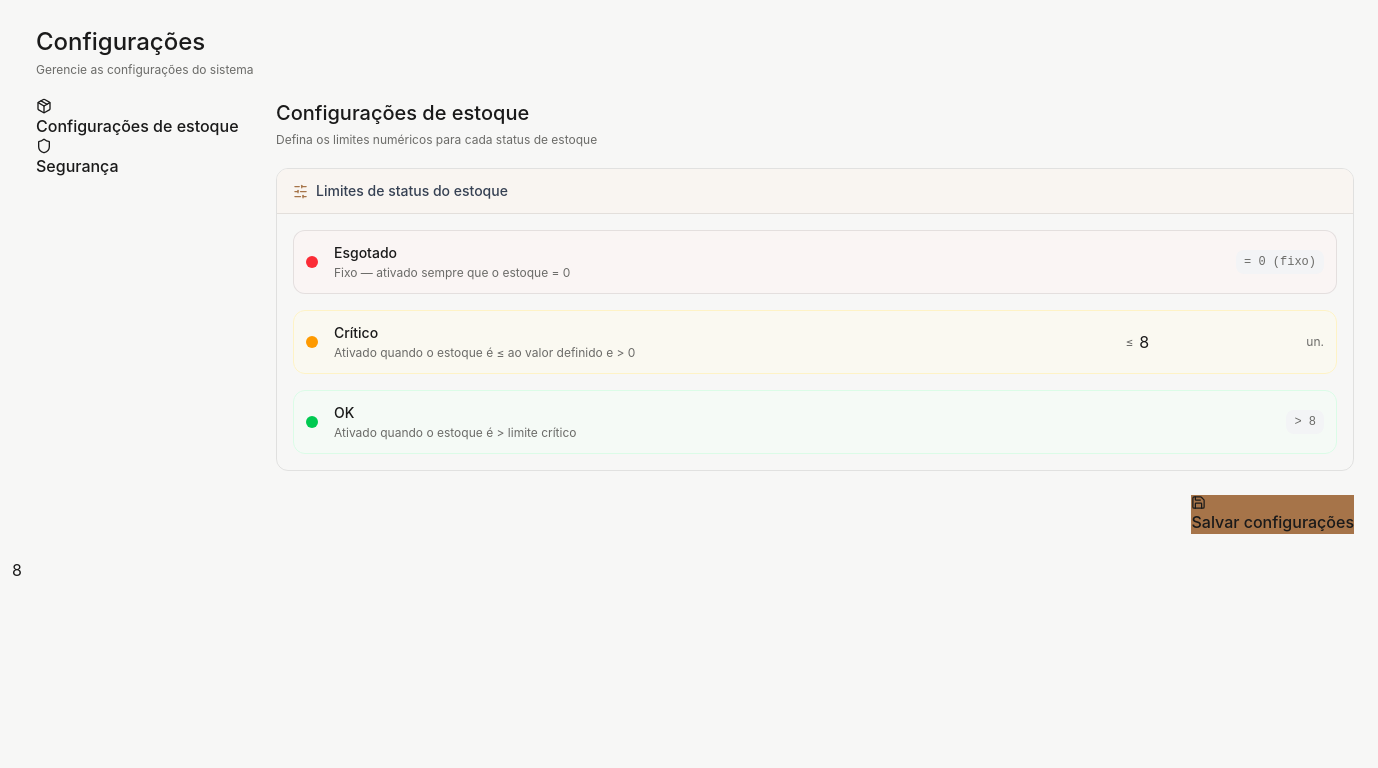
Scenario: Settings: caracterizacao das validacoes › limite invalido '0' nao envia requisicao nem mostra sucesso
Replace the text in the number field with "0" at (1220, 342), box [1139, 330, 1300, 354]
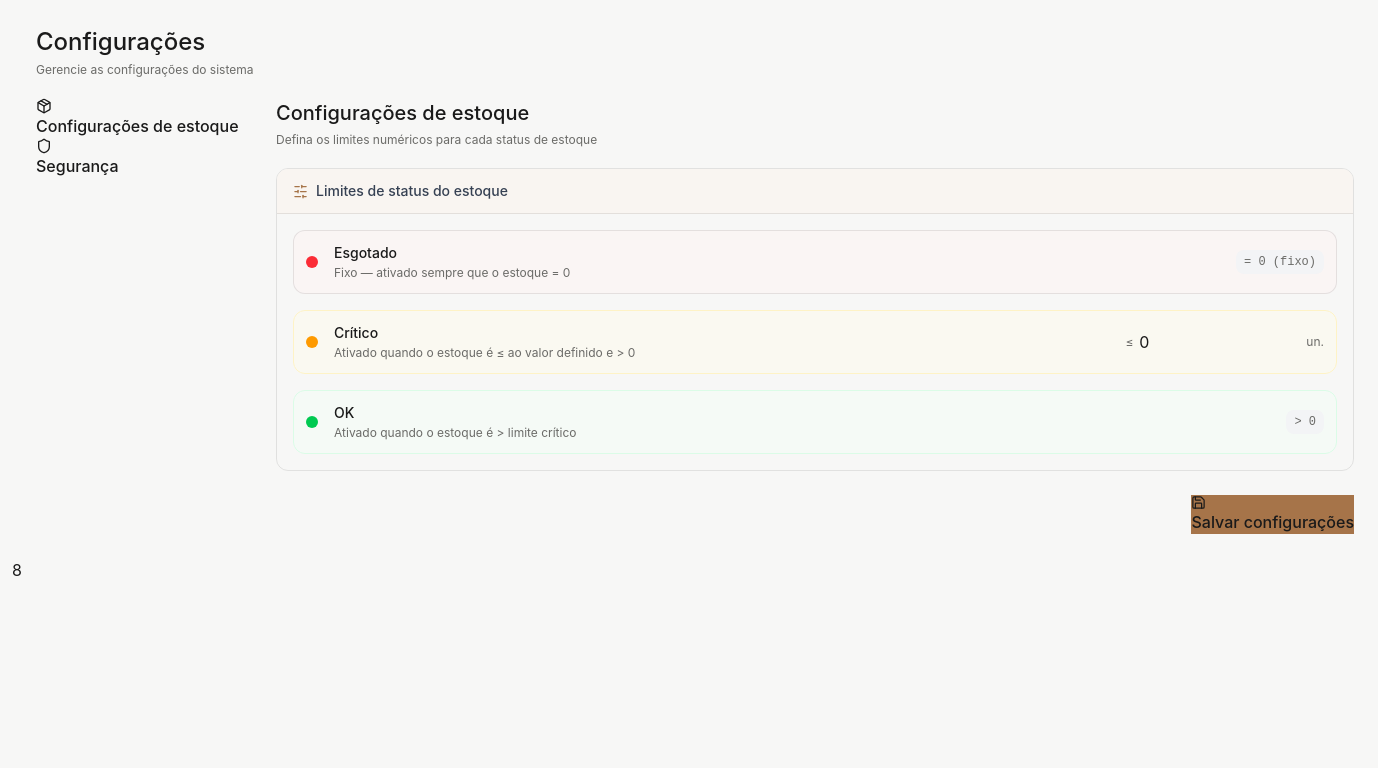
Click the button "Salvar configurações" at (1273, 514), box [1192, 495, 1354, 534]
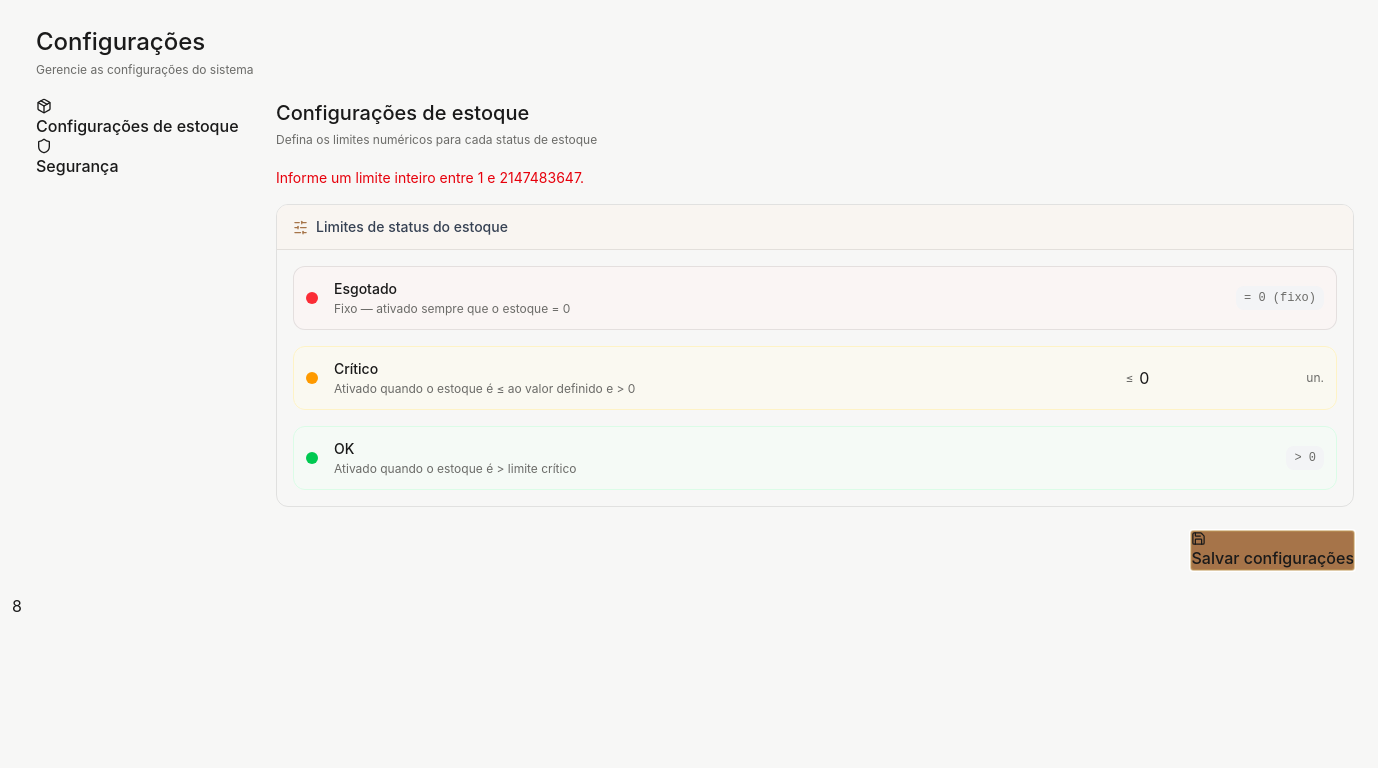
expect the text with test id "stock-limit" reads "8": met, box [12, 596, 22, 616]
expect the message reads "Informe um limite inteiro entre 1 e 2147483647.": met, box [276, 169, 584, 186]
